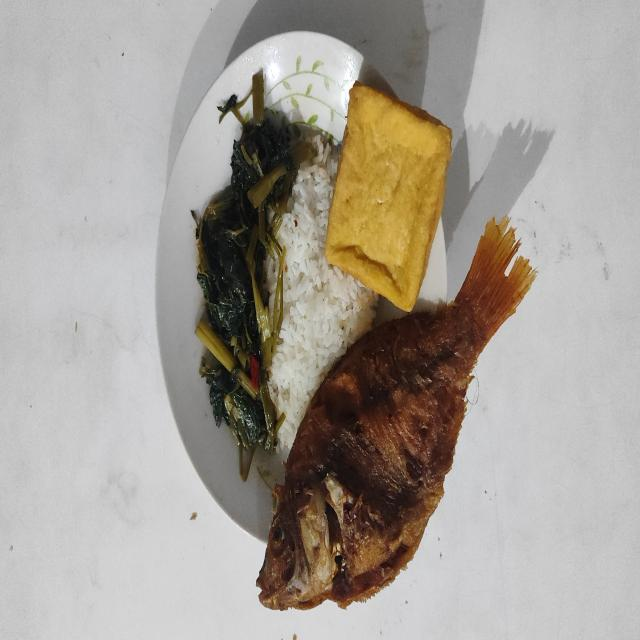ikan_mujair: (256, 218, 536, 610)
nasi_putih: (268, 130, 378, 457)
tahu_goreng: (326, 81, 452, 312)
tumis_kangkung: (195, 70, 314, 482)
